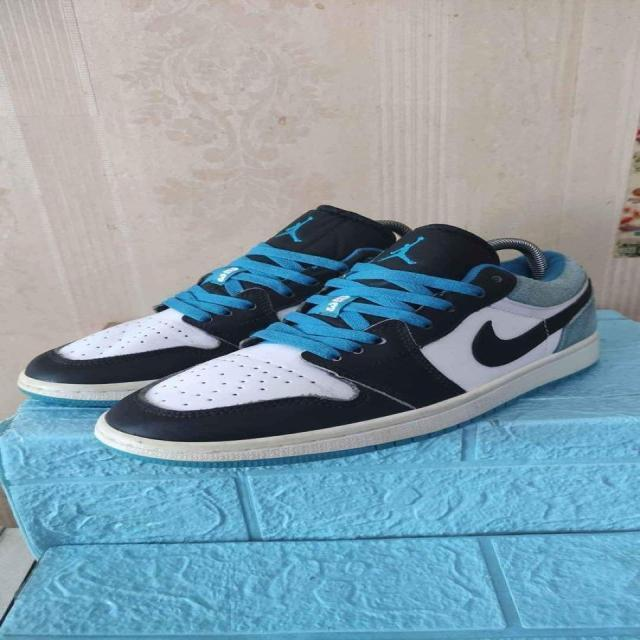nike fake jordan 1: (95, 222, 602, 470), (21, 206, 466, 402)
